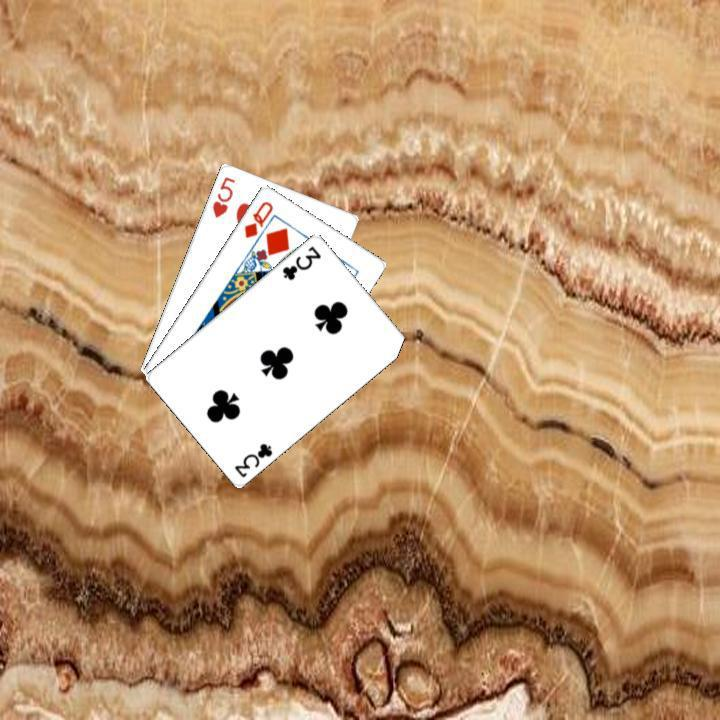3: (278, 241, 323, 282), (230, 438, 275, 479)
5: (208, 172, 237, 219)
Q: (240, 196, 275, 240)
